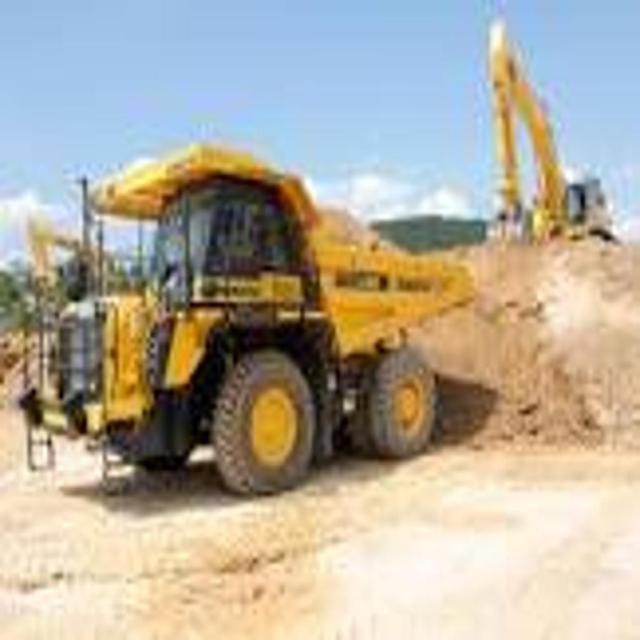dump_truck: (20, 130, 476, 514)
